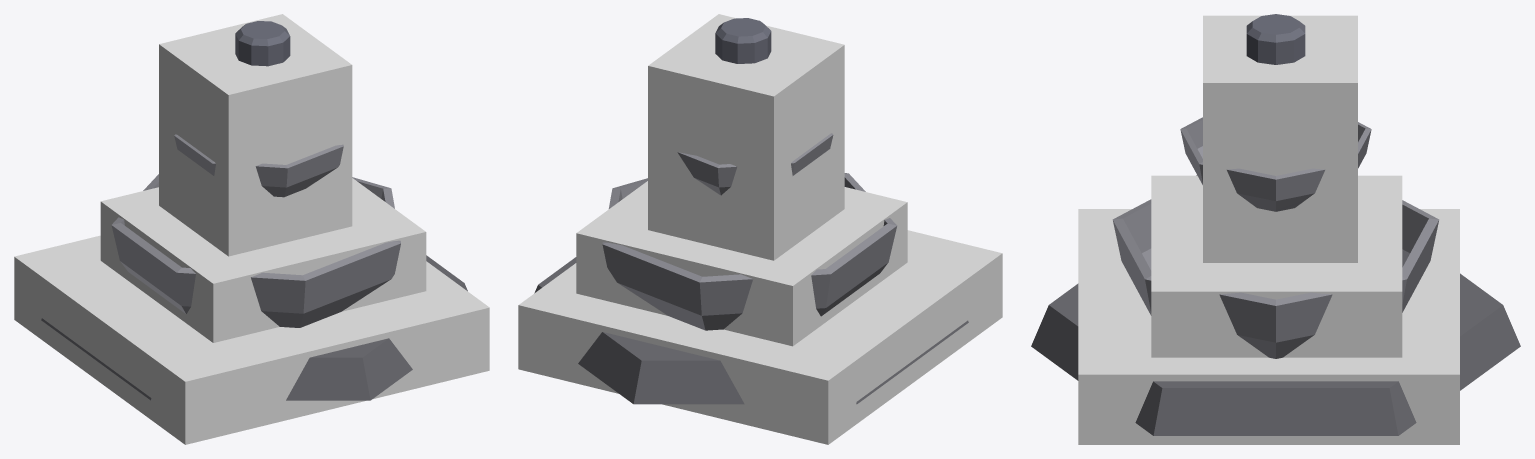
The model's file is fountain_orc.glb.
3 views of the same model, side by side, from view 1: azimuth 30°, elevation 25°; view 2: azimuth 150°, elevation 25°; view 3: azimuth 270°, elevation 25° (orthographic). The views are drawn at different scales.
Visible parts, largest first — view 1: Cube.002, Cube.003, fontain_1, Cube.001; view 2: Cube.002, Cube.003, fontain_1, Cube.001; view 3: fontain_1, Cube.002, Cube.003, Cube.001.
Boxes of the visible parts, <box> form: Cube.002: <box>14,235,489,444</box>; Cube.003: <box>159,14,352,256</box>; fontain_1: <box>41,21,467,400</box>; Cube.001: <box>100,178,426,342</box>; Cube.002: <box>518,230,1002,444</box>; Cube.003: <box>648,14,844,260</box>; fontain_1: <box>534,18,968,404</box>; Cube.001: <box>576,181,907,346</box>; fontain_1: <box>1031,14,1520,435</box>; Cube.002: <box>1078,209,1459,444</box>; Cube.003: <box>1203,15,1357,262</box>; Cube.001: <box>1151,175,1402,357</box>.
Bounding box in the file's own units: 3.63 × 3.26 × 4.2.
1 material, 1 textured.
